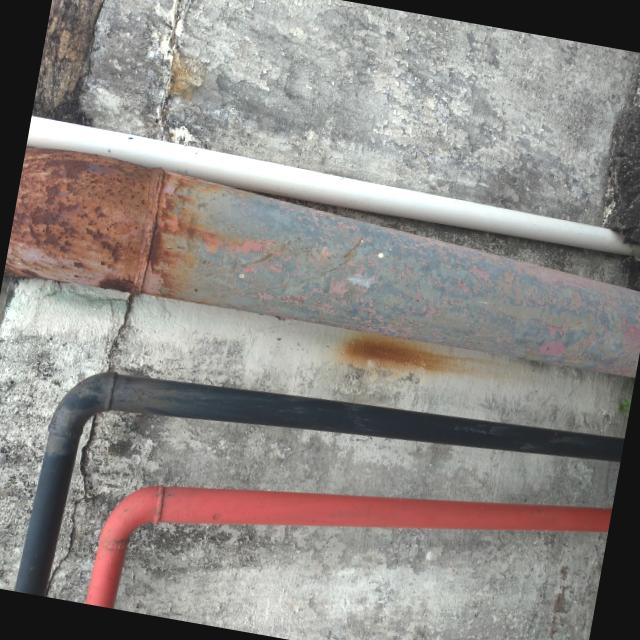gas: (2, 144, 640, 387), (102, 342, 625, 498), (155, 426, 612, 601), (18, 416, 80, 598), (86, 506, 132, 609)
